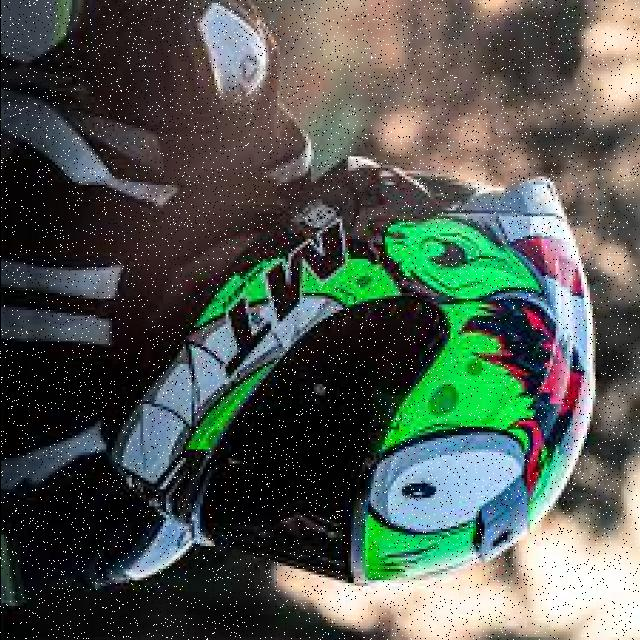Helmet: (113, 159, 592, 582)
